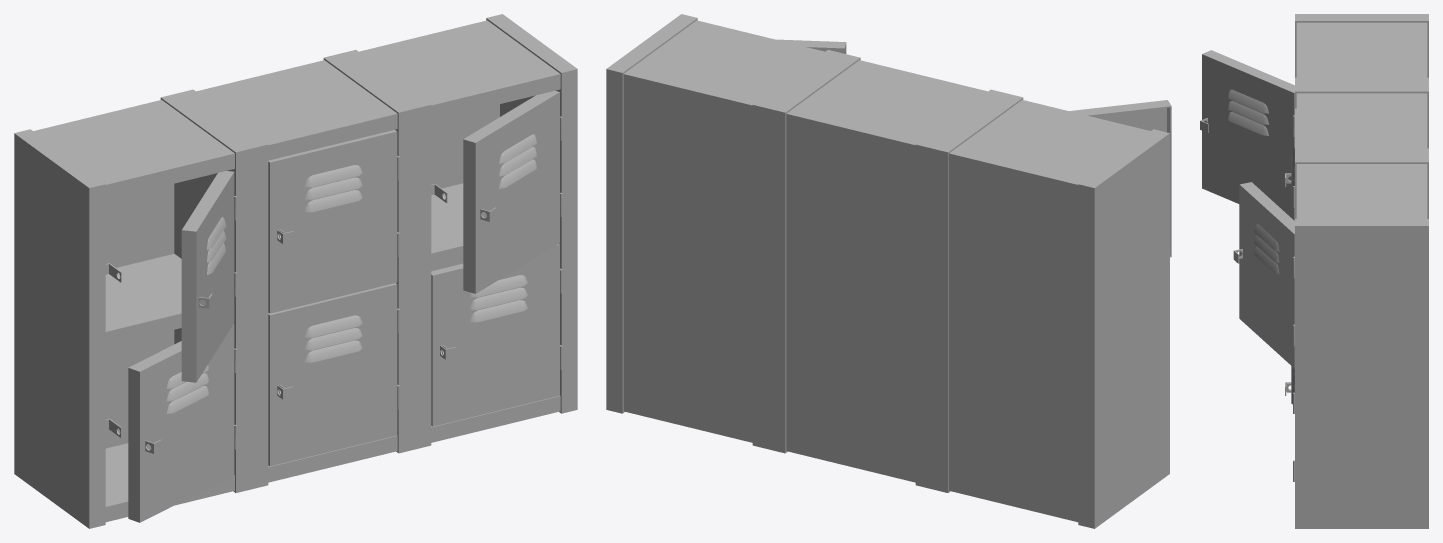
File: lockers.glb
3 renders of one model, left to right at view 1: azimuth 30°, elevation 25°; view 2: azimuth 150°, elevation 25°; view 3: azimuth 270°, elevation 25°, orthographic. The views are drawn at different scales.
Visible parts, largest first — view 1: Locker_Body_low, Locker_Door_low; view 2: Locker_Body_low, Locker_Door_low; view 3: Locker_Body_low, Locker_Door_low.
Boxes of the visible parts, box(x1,y1,x2,y2) form: Locker_Body_low: box(14, 14, 577, 528); Locker_Door_low: box(128, 90, 559, 522); Locker_Body_low: box(606, 14, 1169, 528); Locker_Door_low: box(777, 39, 1171, 257); Locker_Body_low: box(1200, 14, 1428, 528); Locker_Door_low: box(1202, 50, 1296, 404).
Size of the model in its own units: 1.4 by 0.9334 by 0.6386.
Materials: 1 (1 with a texture image).
